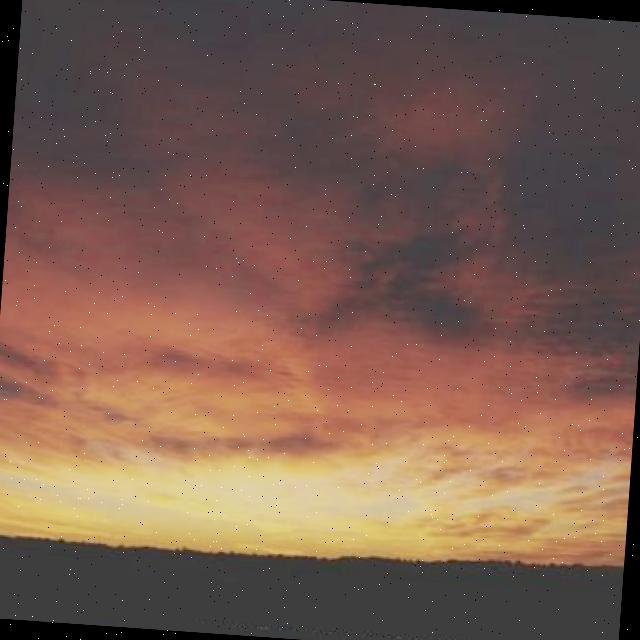As: (1, 3, 640, 544)
